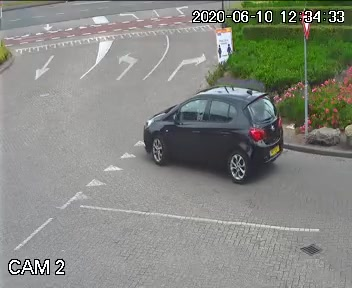car: (127, 80, 290, 189)
